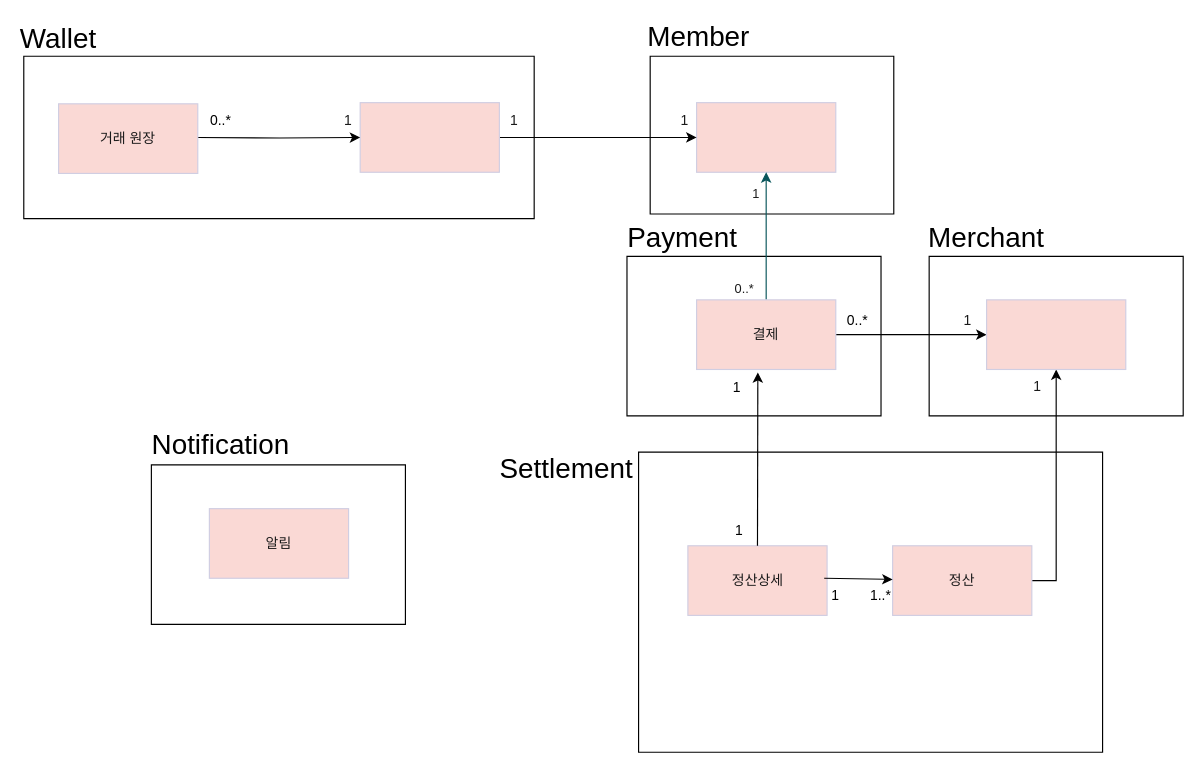
Image size: 1203x773. Some labels were removed from this diagram. The shapes that lost their labels are listed below. From the top down, each one's centre as x and y in pixels, then its label:
At [429,137]: "지갑".
At [765,137]: "회원".
At [1055,334]: "가맹점".
